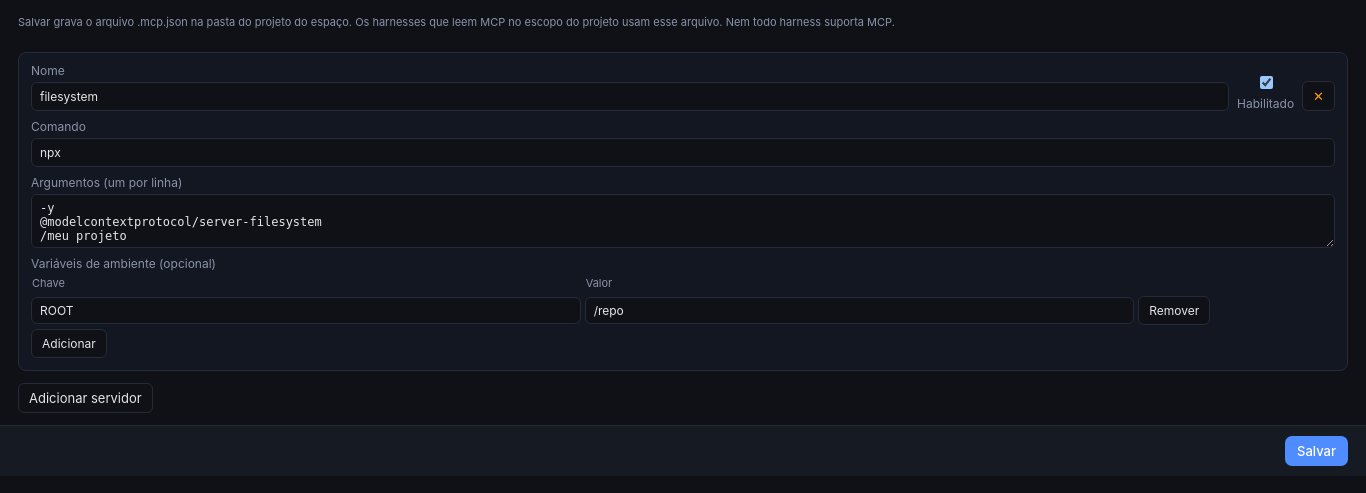
Test case: McpTab › mostra o erro do backend quando o nome está repetido
Check: the field showing "filesystem" is shown, box [31, 82, 1229, 111]
Step 1. Click the button "Salvar" → (1316, 451), box [1285, 436, 1348, 466]
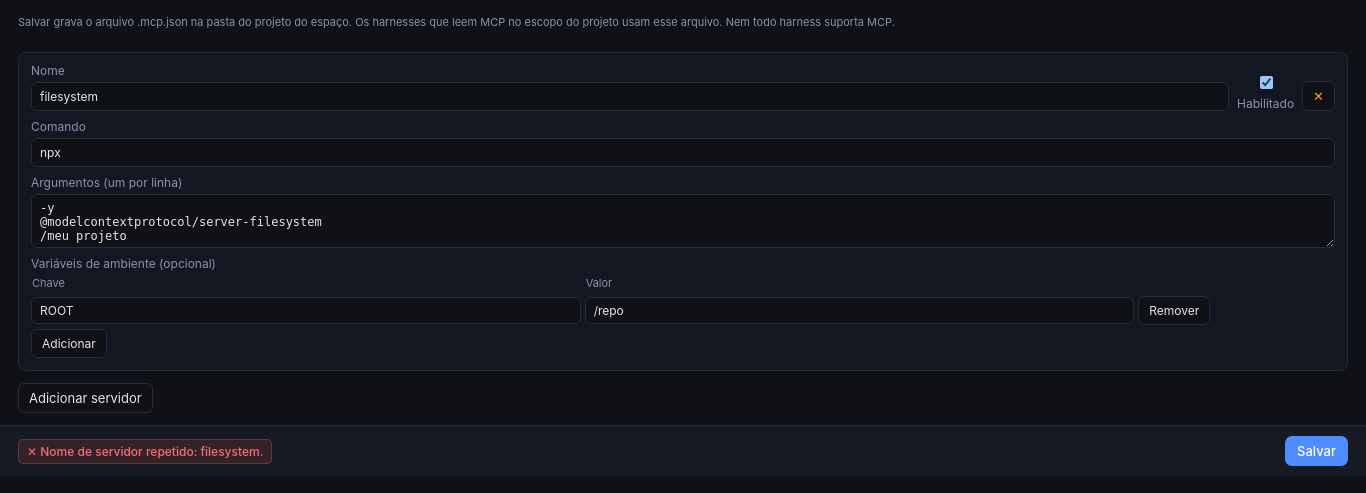
Check: the message shows "repetido", box [40, 444, 263, 458]
